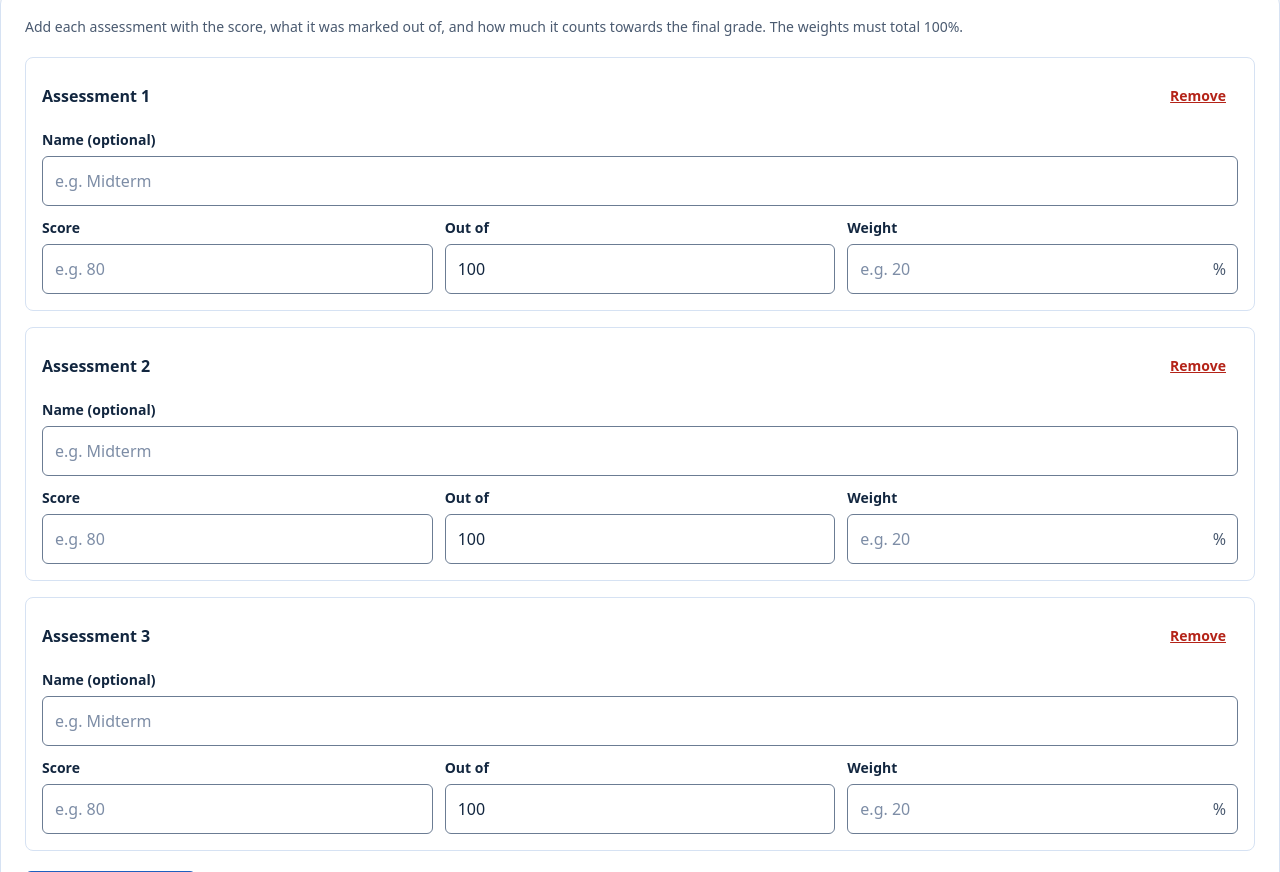
Scenario: WeightedGradeCalculator › shows a live weight total
Type "60" into the 1st field labelled "Weight" at (1043, 269), box [847,244,1238,294]
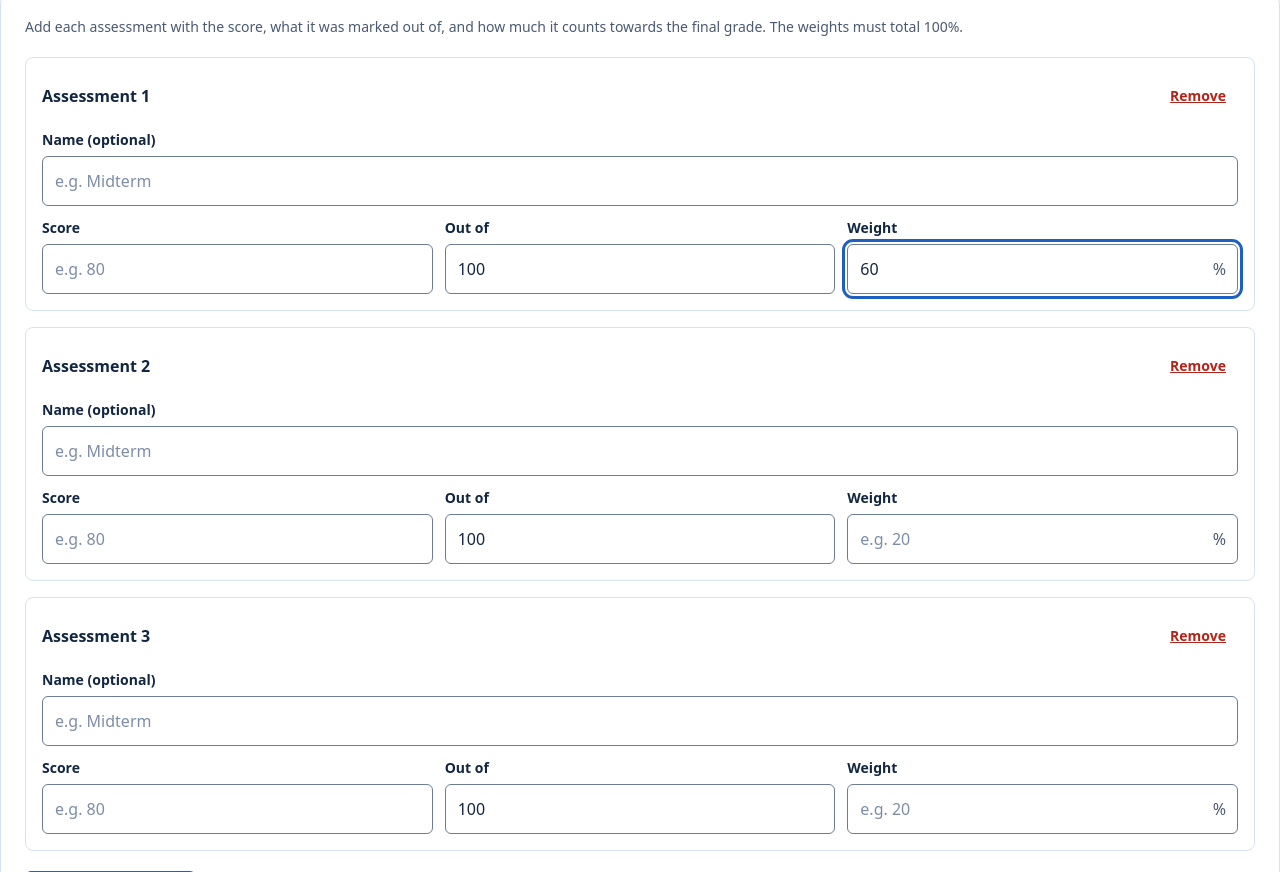
Type "40" into the 2nd field labelled "Weight" at (1043, 539), box [847,514,1238,564]
(page scrolled)
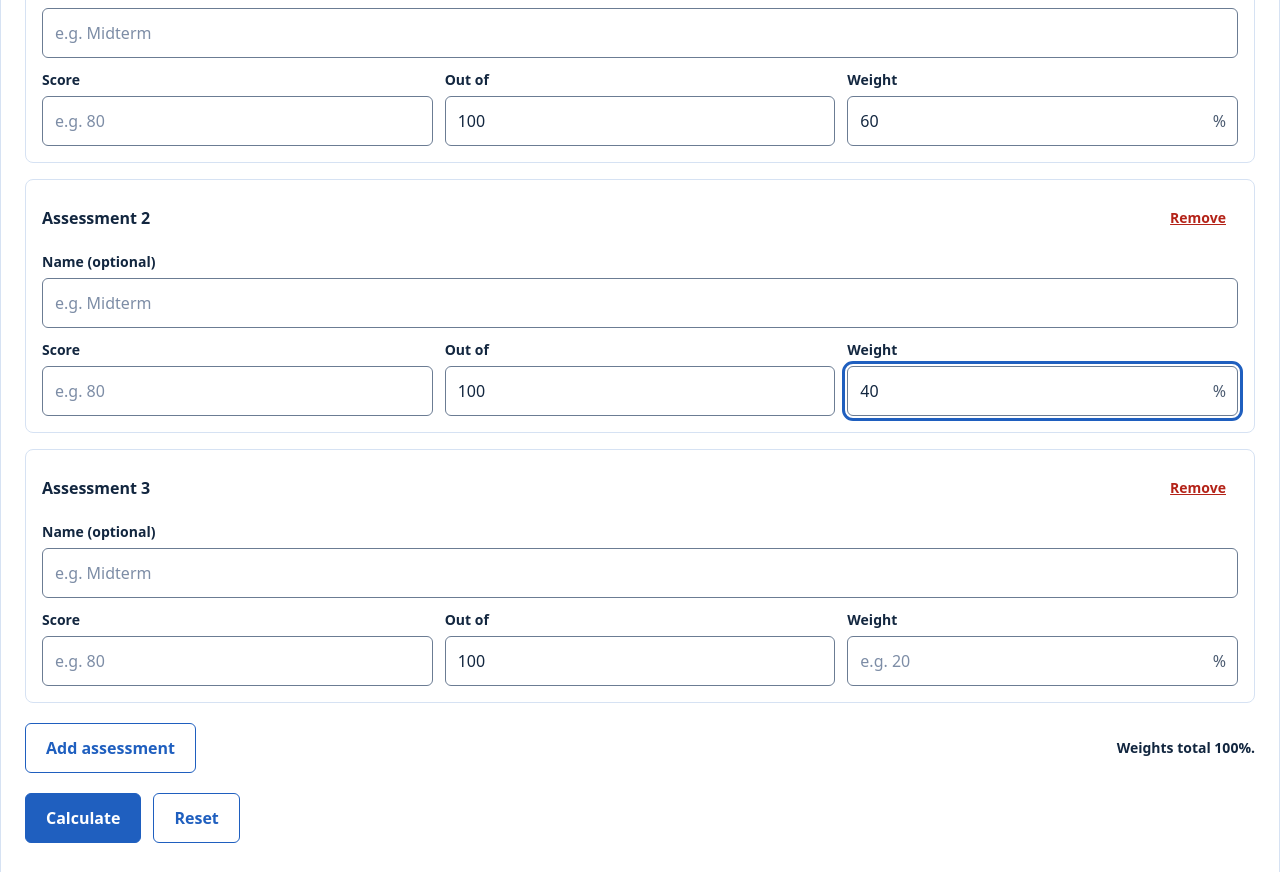
expect the text "Weights total 100%." is shown: met, box [1117,738,1255,758]
